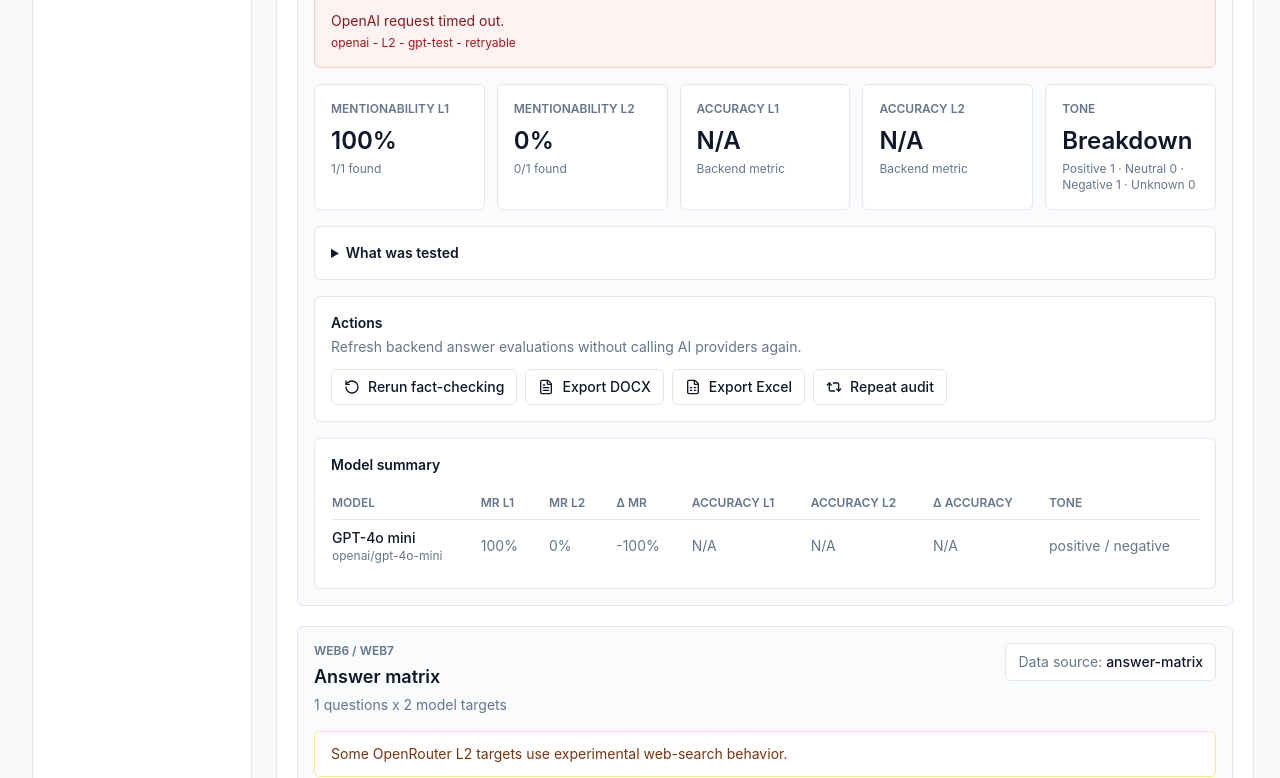
Test: audit summary page › shows a safe export error without leaking backend details
This screenshot has width=1280, height=778.
(page scrolled)
Click the button "Export DOCX". click: (595, 387)
box: [525,369,664,405]
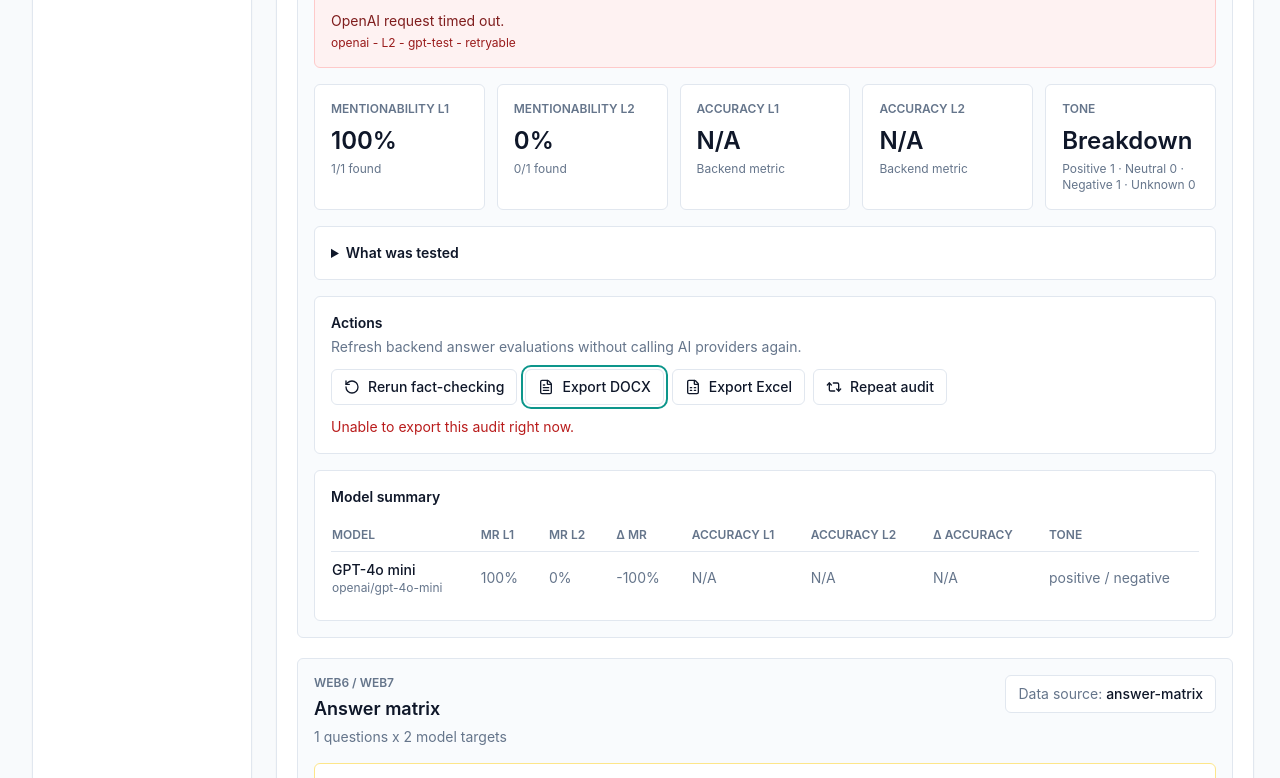
Now the text "Unable to export this audit right now." is shown, box [331,418,574,435]
